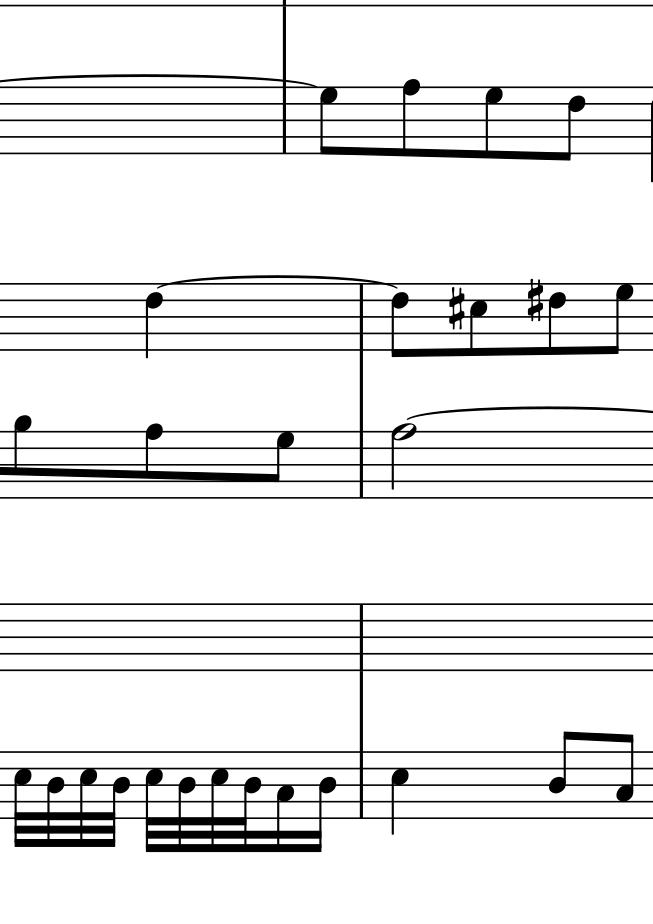16_3: (274, 748, 295, 855)
16_4: (311, 749, 338, 854), (236, 748, 262, 854)
2_8: (389, 423, 417, 501)
32_4: (107, 749, 130, 848), (176, 750, 196, 855), (45, 749, 65, 850)
32_5: (142, 749, 163, 856), (208, 749, 229, 854), (12, 750, 33, 851), (76, 750, 96, 849)
4_5: (390, 749, 410, 838)
4_6: (143, 282, 165, 359)
8_3: (615, 732, 636, 823)
8_4: (548, 731, 577, 821)
8_5: (467, 281, 490, 359)
8_6: (556, 83, 587, 161), (545, 280, 568, 357), (389, 281, 411, 361)
8_7: (606, 281, 634, 355), (267, 430, 296, 499), (482, 85, 504, 162), (318, 84, 339, 157)
8_8: (400, 77, 422, 159), (144, 422, 165, 502)
8_9: (12, 414, 34, 501)
Sharp: (446, 288, 468, 334), (525, 278, 546, 324)
Single_barline: (350, 604, 378, 671), (273, 86, 297, 154), (350, 284, 374, 351), (352, 431, 375, 499), (350, 750, 373, 818)
Slur: (405, 404, 653, 421), (157, 273, 399, 290), (1, 74, 313, 87)
